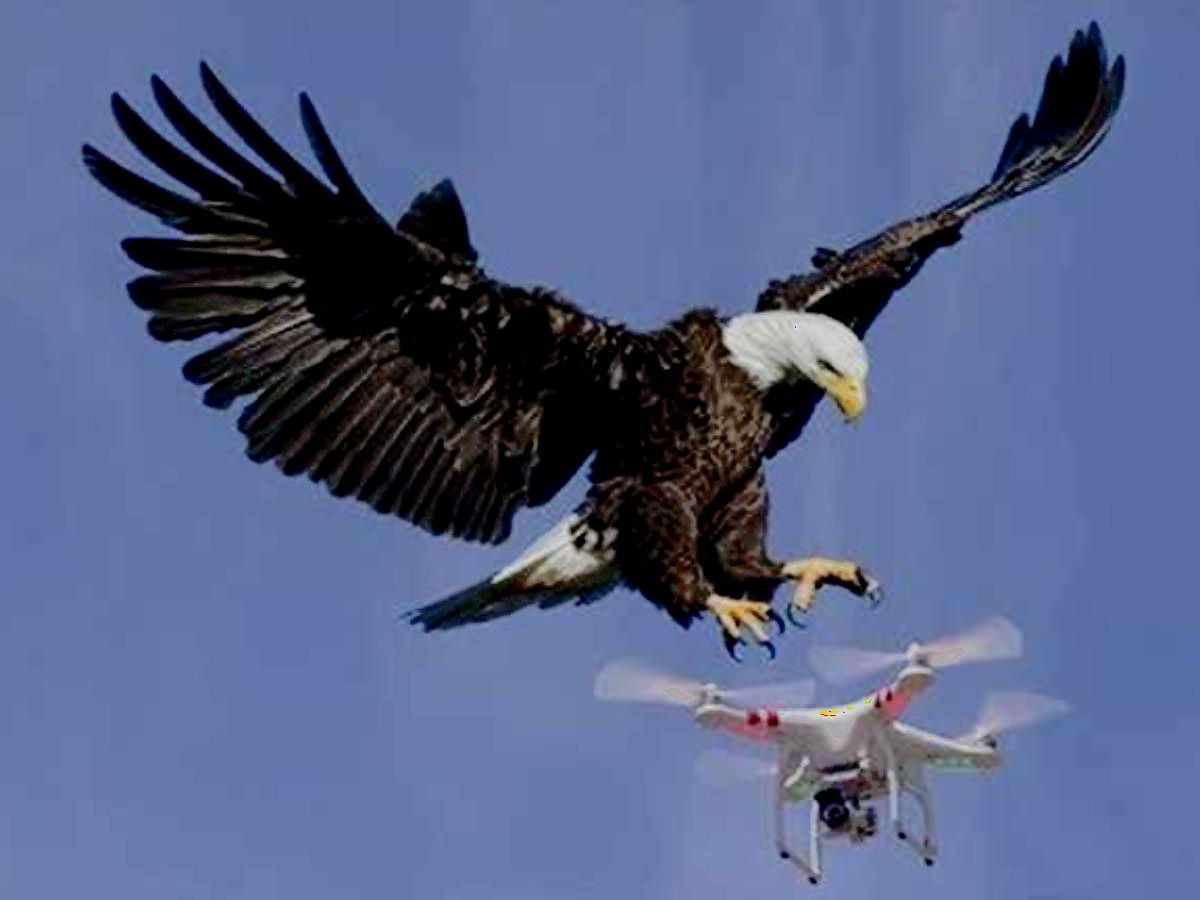Bird: (68, 19, 1135, 675)
Drone: (586, 610, 1080, 884)
